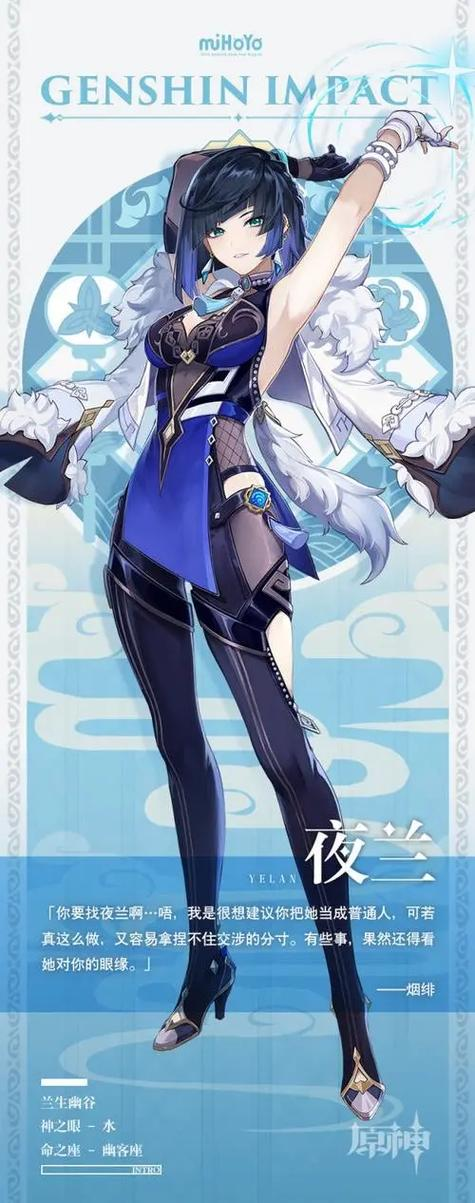夜兰: (105, 111, 475, 1128)
